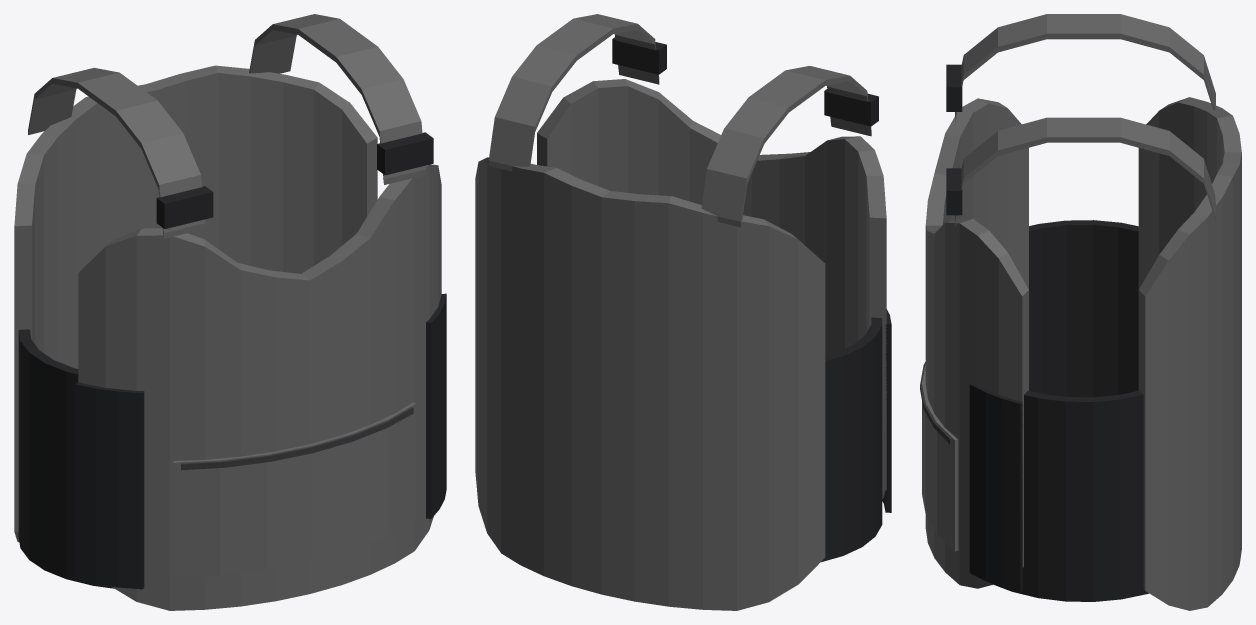
The model's file is soft-vest.glb.
3 renders of one model, left to right at view 1: azimuth 30°, elevation 25°; view 2: azimuth 150°, elevation 25°; view 3: azimuth 270°, elevation 25°, orthographic. The views are drawn at different scales.
Parts seen in each view (by area): view 1: soft-vest; view 2: soft-vest; view 3: soft-vest.
Part boxes in pixels (x1=…): soft-vest: x1=14, y1=14, x2=446, y2=610; soft-vest: x1=475, y1=14, x2=891, y2=610; soft-vest: x1=920, y1=14, x2=1241, y2=610.
Size of the model in its own units: 0.3513 by 0.427 by 0.2625.
Materials: 1 (1 with a texture image).
